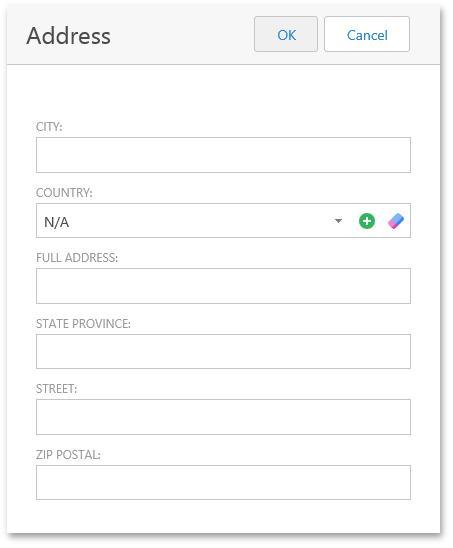button: (325, 17, 410, 53), (256, 17, 319, 52)
dropdown: (37, 204, 412, 239)
input: (37, 269, 412, 305), (37, 335, 411, 370), (37, 139, 412, 173), (36, 401, 411, 435), (37, 467, 412, 500)
label: (22, 25, 113, 47), (35, 317, 133, 331), (33, 251, 119, 266), (33, 186, 94, 200), (34, 450, 103, 462), (36, 382, 79, 397), (33, 120, 65, 134)
